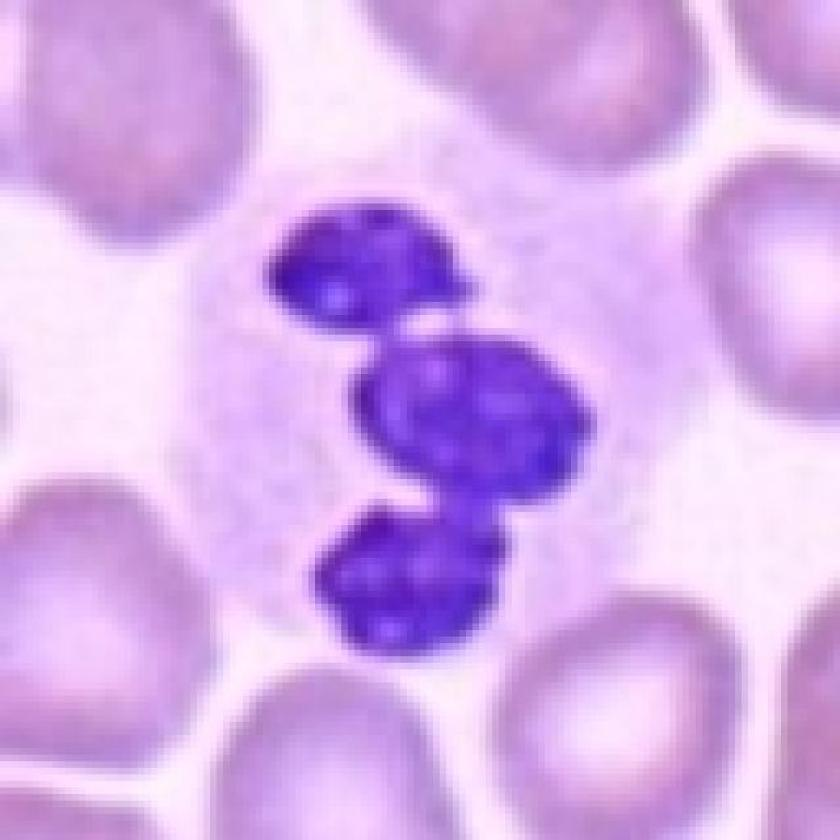neutrophil: (161, 68, 686, 687)
